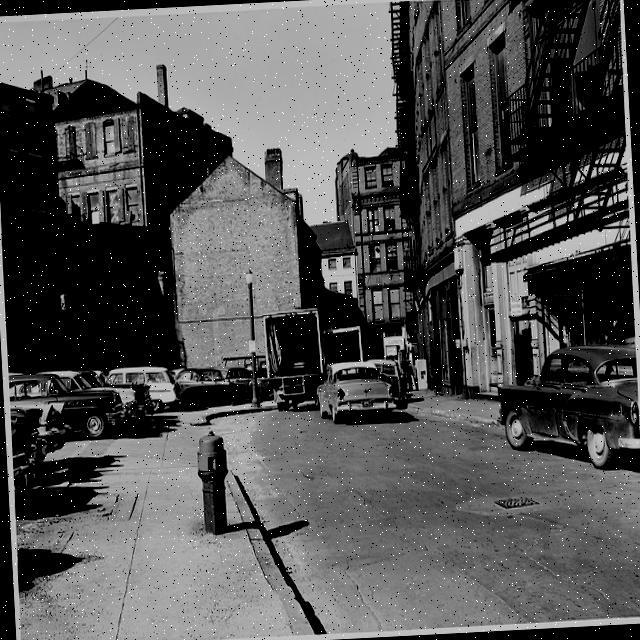fire_hydrant: (196, 428, 232, 537)
